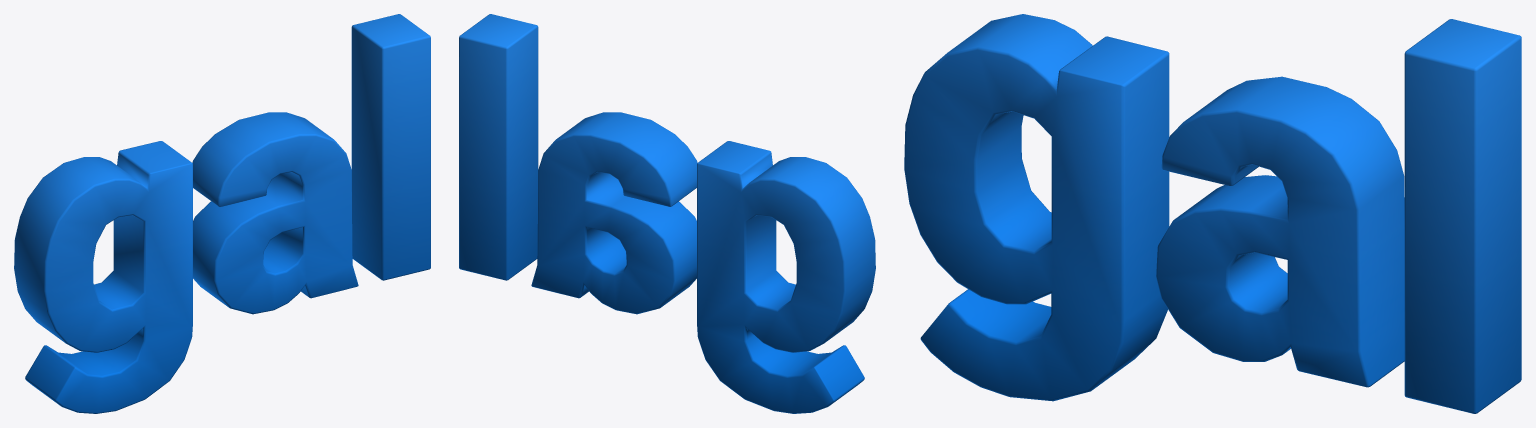
Rendered from Cha-gal-10.fbx.
The picture shows the model from 3 angles, left to right: view 1: azimuth 30°, elevation 25°; view 2: azimuth 150°, elevation 25°; view 3: azimuth 330°, elevation 25°; orthographic projection. The views are drawn at different scales.
Visible parts, largest first — view 1: Cha-gal-10; view 2: Cha-gal-10; view 3: Cha-gal-10.
Part boxes in pixels (<box>): Cha-gal-10: <box>14,14,430,413</box>; Cha-gal-10: <box>459,14,875,413</box>; Cha-gal-10: <box>904,14,1521,413</box>.
Bounding box in the file's own units: 1.73 × 1.28 × 0.2446.
